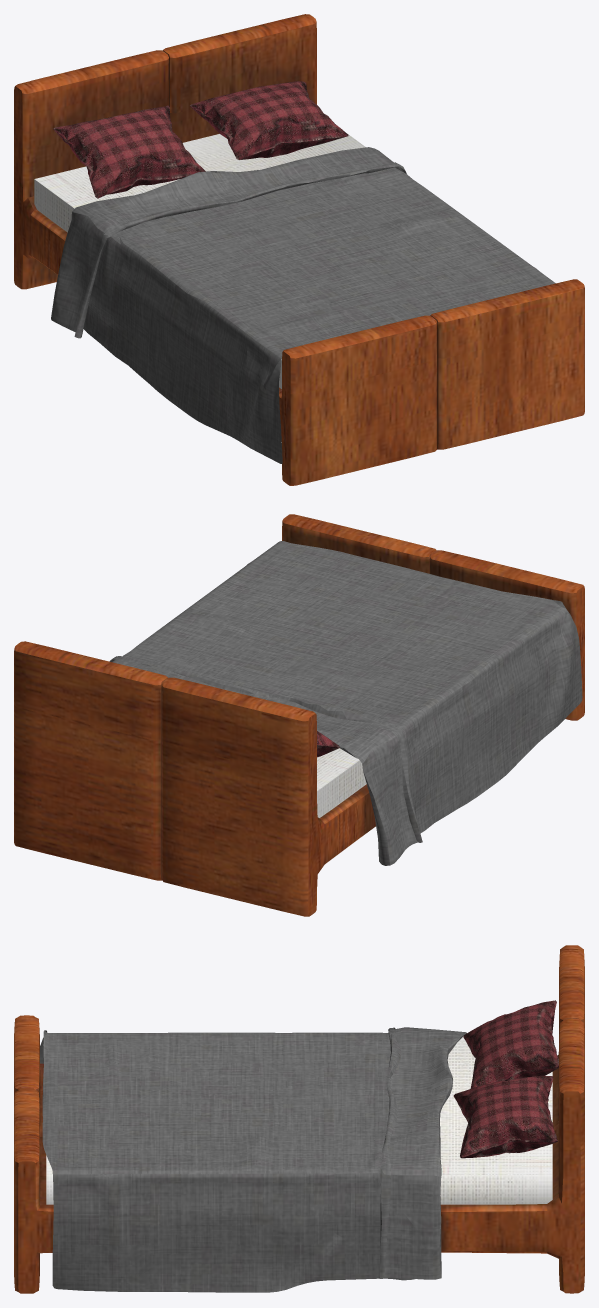
File: Bed.fbx
The picture shows the model from 3 angles, top to bottom: view 1: azimuth 30°, elevation 25°; view 2: azimuth 150°, elevation 25°; view 3: azimuth 270°, elevation 25°; orthographic projection.
Visible parts, largest first — view 1: Bed; view 2: Bed; view 3: Bed.
Part boxes in pixels (x1=…): Bed: x1=14, y1=14, x2=584, y2=485; Bed: x1=14, y1=514, x2=584, y2=916; Bed: x1=14, y1=945, x2=584, y2=1293.
Size of the model in its own units: 148 by 83.77 by 213.
